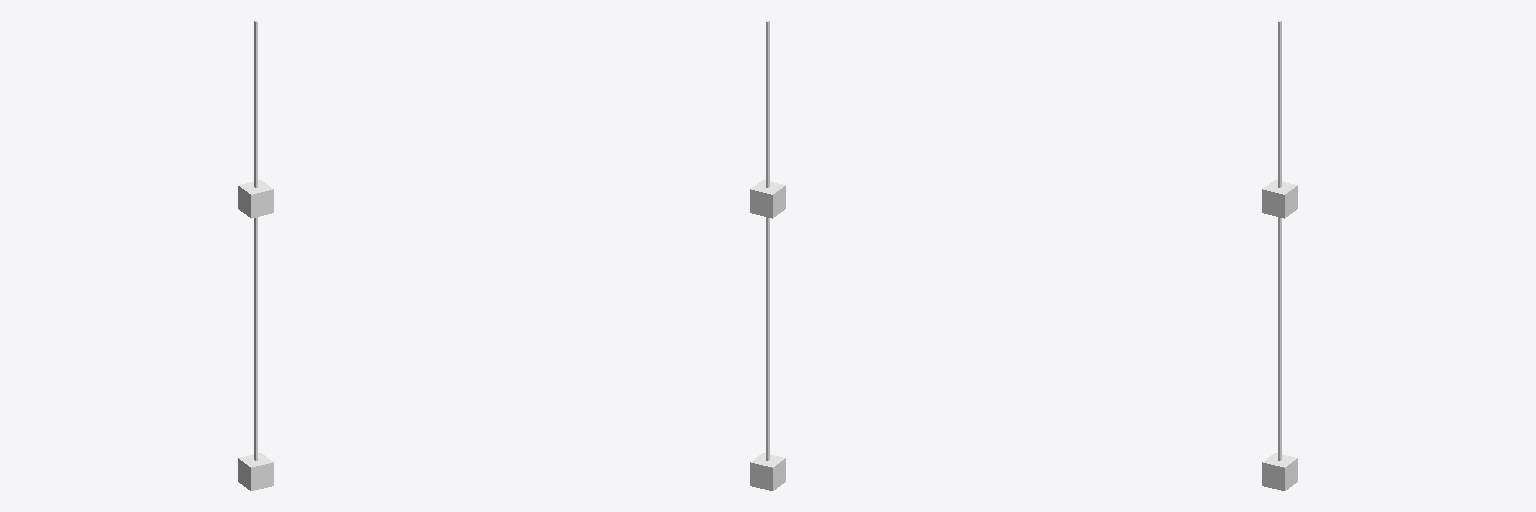
robot.urdf — pole60:
<?xml version="1.0" ?>

<robot name="pole60">
    <link name="base">
        <visual>
  	    <origin xyz="0 0 0" rpy="0 0 0" />
	    <geometry> <box size="0.05 0.05 0.05"/> </geometry>
	    <material name=""> <color rgba="1.0 1.0 1.0 1.0" /> </material>
	</visual>
	<collision>
	    <origin xyz="0 0 0" rpy="0 0 0" />
	    <geometry> <box size="0.05 0.05 0.05"/> </geometry>
	</collision>
	<inertial>
	    <origin xyz="0 0 0" rpy="0 0 0" />
	    <mass value="0.5" />
	    <inertia ixx="0.001" ixy="0" ixz="0" iyy="0.001" iyz="0" izz="0.001" />
	</inertial>
    </link>
    <gazebo reference="base"> <material>Gazebo/Black</material> </gazebo>

    <joint name="jointRedpole1" type="fixed">
        <parent link="base"/>
	<child  link="pole"/>
	<origin xyz="0 0 0.4875" rpy="0 0 0"/>
    </joint>
  
    <link name="pole">
        <visual>
	    <origin xyz="0 0 0" rpy="0 0 0" />
	    <geometry> <box size="0.005 0.005 0.925"/> </geometry>
	    <material name=""> <color rgba="1.0 1.0 1.0 1.0" /> </material>
	</visual>
	<collision>
            <origin xyz="0 0 0" rpy="0 0 0" />
	    <geometry> <box size="0.005 0.005 0.925"/> </geometry>
	</collision>
	<inertial>
	    <origin xyz="0 0 0" rpy="0 0 0" />
	    <mass value="0.1" />
	    <inertia ixx="0.001" ixy="0" ixz="0" iyy="0.001" iyz="0" izz="0.001" />
	</inertial>
    </link>
    <gazebo reference="pole"> <material>Gazebo/Black</material> </gazebo>

    <joint name="jointRedpole2" type="fixed">
        <parent link="pole"/>
	<child  link="top"/>
	<origin xyz="0 0 0.0875" rpy="0 0 0"/>
    </joint>
  
    <link name="top">
        <visual>
	    <origin xyz="0 0 0" rpy="0 0 0" />
	    <geometry> <box size="0.05 0.05 0.05"/> </geometry>
	    <material name=""> <color rgba="1.0 1.0 1.0 1.0" /> </material>
	</visual>
	<collision>
	    <origin xyz="0 0 0" rpy="0 0 0" />
	    <geometry> <box size="0.05 0.05 0.05"/> </geometry>
	</collision>
	<inertial>
	    <origin xyz="0 0 0" rpy="0 0 0" />
	    <mass value="0.5" />
	    <inertia ixx="0.001" ixy="0" ixz="0" iyy="0.001" iyz="0" izz="0.001" />
	</inertial>
    </link>
   <gazebo reference="top"> <material>Gazebo/Blue</material> </gazebo>

</robot>

--- What the picture shows (computed from the rendered views, not written in the file) ---
Views: 3 orthographic renders of the robot side by side, from view 1: azimuth 30°, elevation 25°; view 2: azimuth 150°, elevation 25°; view 3: azimuth 330°, elevation 25°.
Robot: pole60 — 3 links, 2 joints (2 fixed); root link base; default pose: every joint at zero.
Visible links, largest first — view 1: pole, top, base; view 2: pole, top, base; view 3: pole, top, base.
Boxes of the visible links, x1,y1,x2,y2 form: pole: [254, 20, 257, 460]; top: [238, 180, 273, 218]; base: [238, 453, 273, 490]; pole: [766, 20, 769, 460]; top: [750, 180, 785, 218]; base: [750, 453, 785, 490]; pole: [1278, 20, 1281, 460]; top: [1262, 180, 1297, 218]; base: [1262, 453, 1297, 490].
Size in the robot's own frame: 0.05 by 0.05 by 0.975 metres.
Geometry: primitives only (box / cylinder / sphere), no mesh files.
